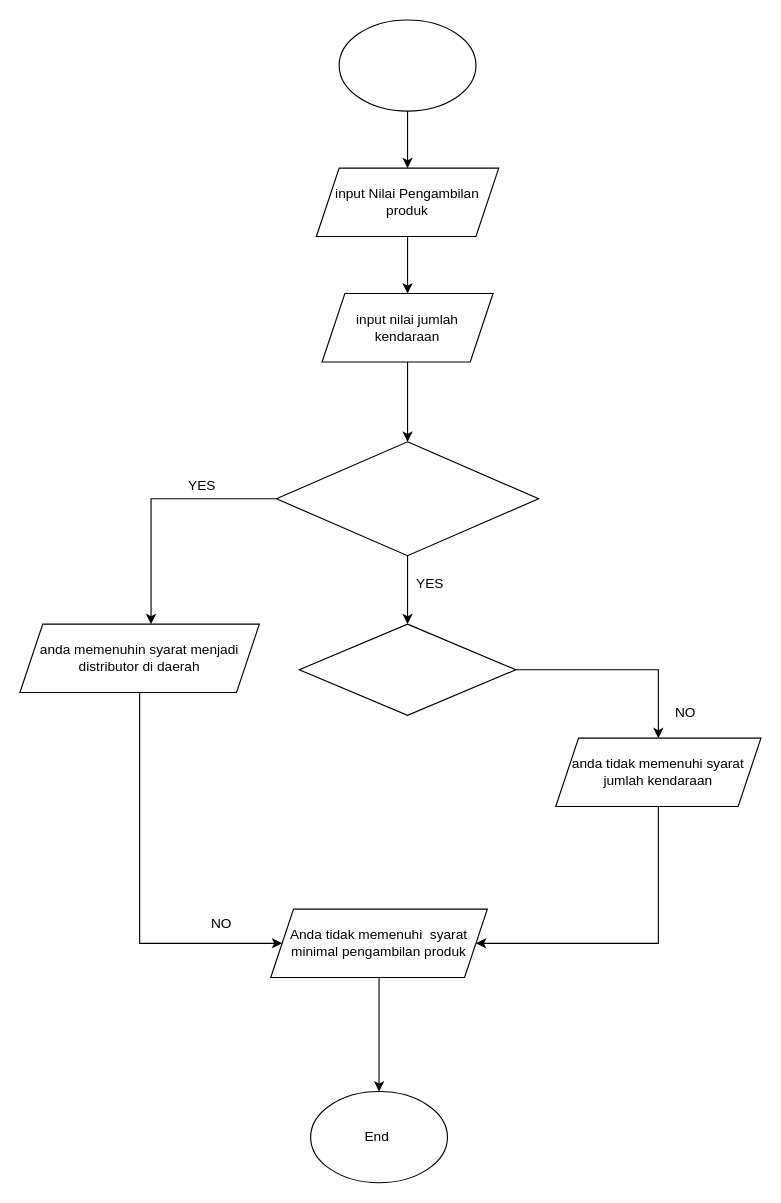
Image size: 781x1203. Some labels were removed from this diagram. The shapes that lost their labels are listed below. From the top down, each one's centre as x and y in pixels, then its label:
At (407,65): "Star".
At (407,498): "Apakah pengambilan produk >=1000000".
At (407,669): "apakah jumlah kendaraan > 8".
